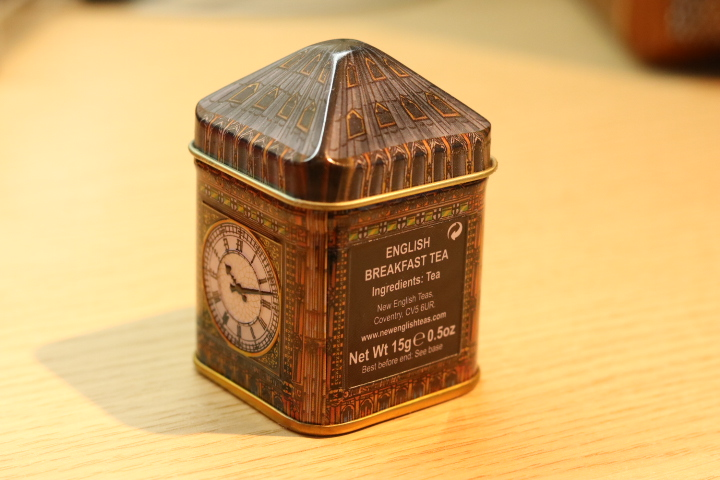Big Ben: (174, 32, 506, 457)
